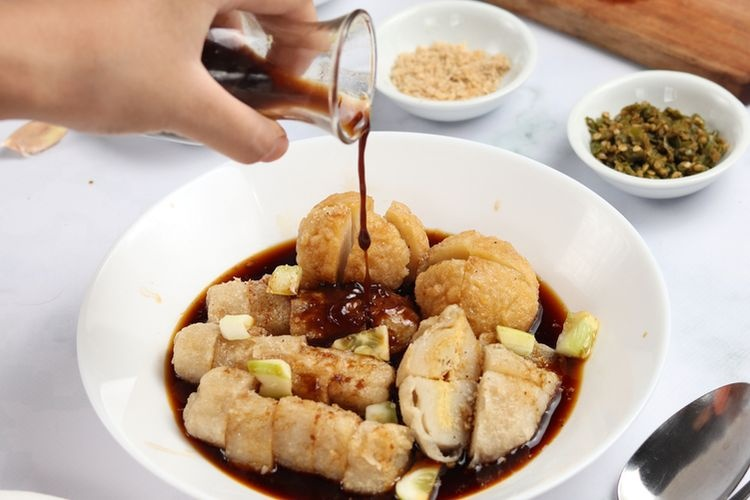pempek: (171, 130, 594, 473)
